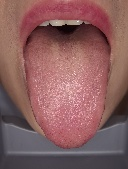tongue: (21, 42, 111, 149)
